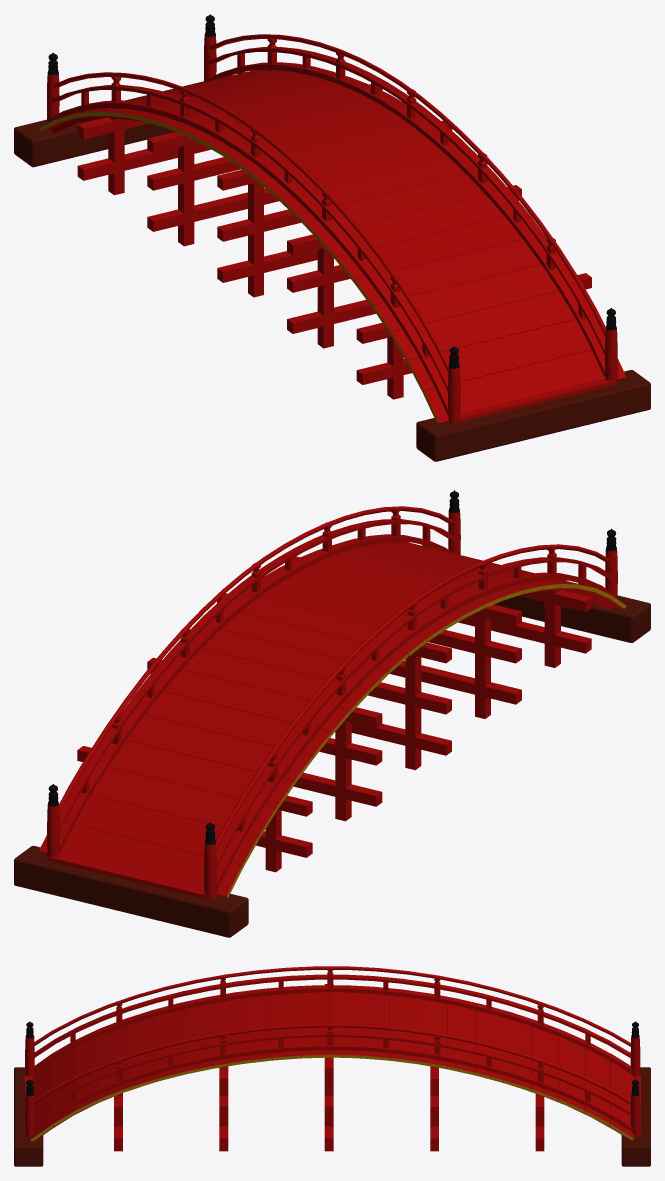
The model's file is taikobashi.obj.
The picture shows the model from 3 angles, top to bottom: view 1: azimuth 30°, elevation 25°; view 2: azimuth 150°, elevation 25°; view 3: azimuth 270°, elevation 25°; orthographic projection. The views are drawn at different scales.
Visible parts, largest first — view 1: 立方体.419_立方体.1041, 立方体.420_立方体.1043, 立方体, 立方体.421_立方体.1044, 円柱.000_円柱.022, 円柱.010_円柱.023, 立方体.422_立方体.1045, 円柱.008_円柱.000; view 2: 立方体.419_立方体.1041, 立方体.420_立方体.1043, 立方体, 立方体.421_立方体.1044, 円柱.000_円柱.022, 円柱.010_円柱.023, 立方体.422_立方体.1045, 円柱.008_円柱.000; view 3: 立方体.419_立方体.1041, 立方体.420_立方体.1043, 立方体.421_立方体.1044, 円柱.000_円柱.022, 立方体, 円柱.010_円柱.023, 円柱.008_円柱.000, 立方体.422_立方体.1045.
Boxes of the visible parts, x1=… form: 立方体.419_立方体.1041: x1=39, y1=70, x2=626, y2=423; 立方体.420_立方体.1043: x1=52, y1=47, x2=605, y2=399; 立方体: x1=14, y1=81, x2=650, y2=461; 立方体.421_立方体.1044: x1=50, y1=62, x2=605, y2=414; 円柱.000_円柱.022: x1=54, y1=34, x2=605, y2=372; 円柱.010_円柱.023: x1=47, y1=14, x2=617, y2=423; 立方体.422_立方体.1045: x1=81, y1=53, x2=615, y2=422; 円柱.008_円柱.000: x1=111, y1=37, x2=555, y2=307; 立方体.419_立方体.1041: x1=39, y1=542, x2=626, y2=898; 立方体.420_立方体.1043: x1=59, y1=519, x2=612, y2=872; 立方体: x1=14, y1=595, x2=650, y2=937; 立方体.421_立方体.1044: x1=59, y1=534, x2=614, y2=890; 円柱.000_円柱.022: x1=59, y1=506, x2=610, y2=849; 円柱.010_円柱.023: x1=47, y1=490, x2=617, y2=899; 立方体.422_立方体.1045: x1=48, y1=526, x2=586, y2=899; 円柱.008_円柱.000: x1=112, y1=507, x2=556, y2=782; 立方体.419_立方体.1041: x1=30, y1=992, x2=634, y2=1141; 立方体.420_立方体.1043: x1=32, y1=974, x2=632, y2=1151; 立方体.421_立方体.1044: x1=31, y1=985, x2=633, y2=1132; 円柱.000_円柱.022: x1=34, y1=966, x2=631, y2=1104; 立方体: x1=14, y1=1067, x2=650, y2=1166; 円柱.010_円柱.023: x1=25, y1=1021, x2=640, y2=1137; 円柱.008_円柱.000: x1=116, y1=968, x2=543, y2=1087; 立方体.422_立方体.1045: x1=24, y1=981, x2=640, y2=1135.
Size of the model in its own units: 1.03 by 0.7488 by 3.28.
